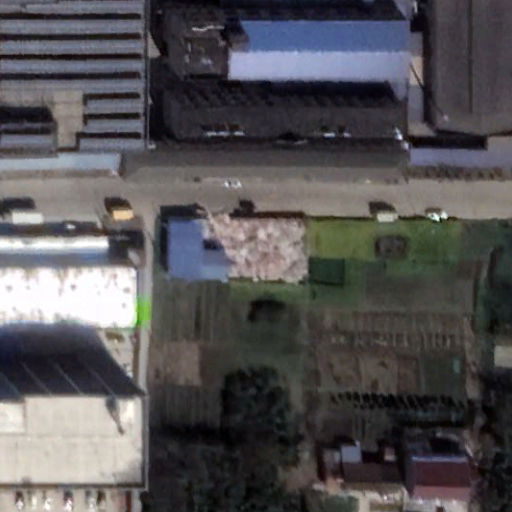msw: (206, 220, 311, 286)
